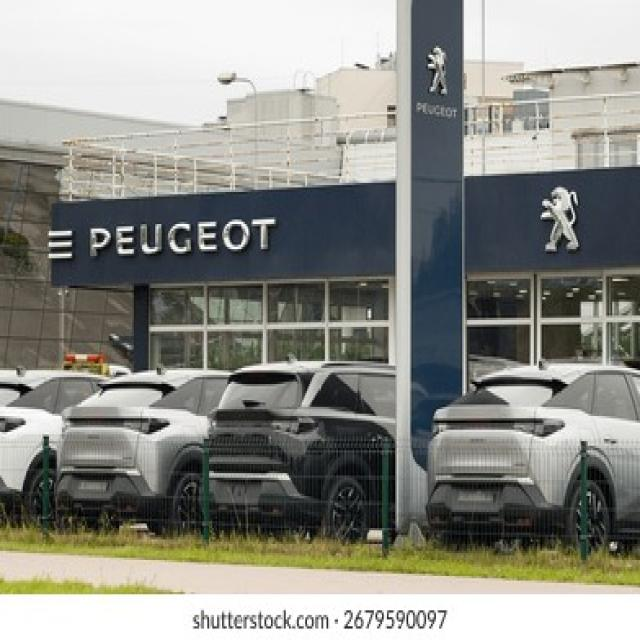pegout: (540, 180, 580, 262)
